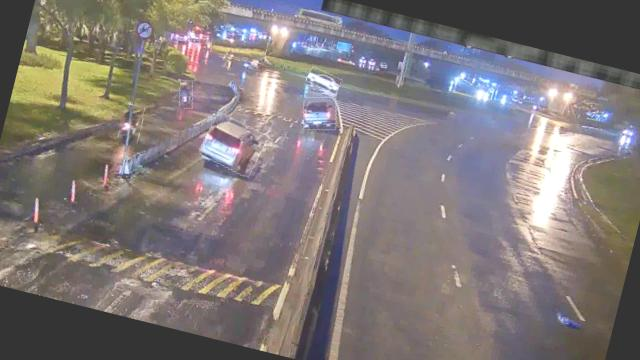Bike: (116, 103, 146, 144), (176, 78, 197, 110)
Bus: (208, 28, 269, 68), (299, 93, 341, 135)
Car: (198, 112, 268, 178), (306, 67, 343, 93)
